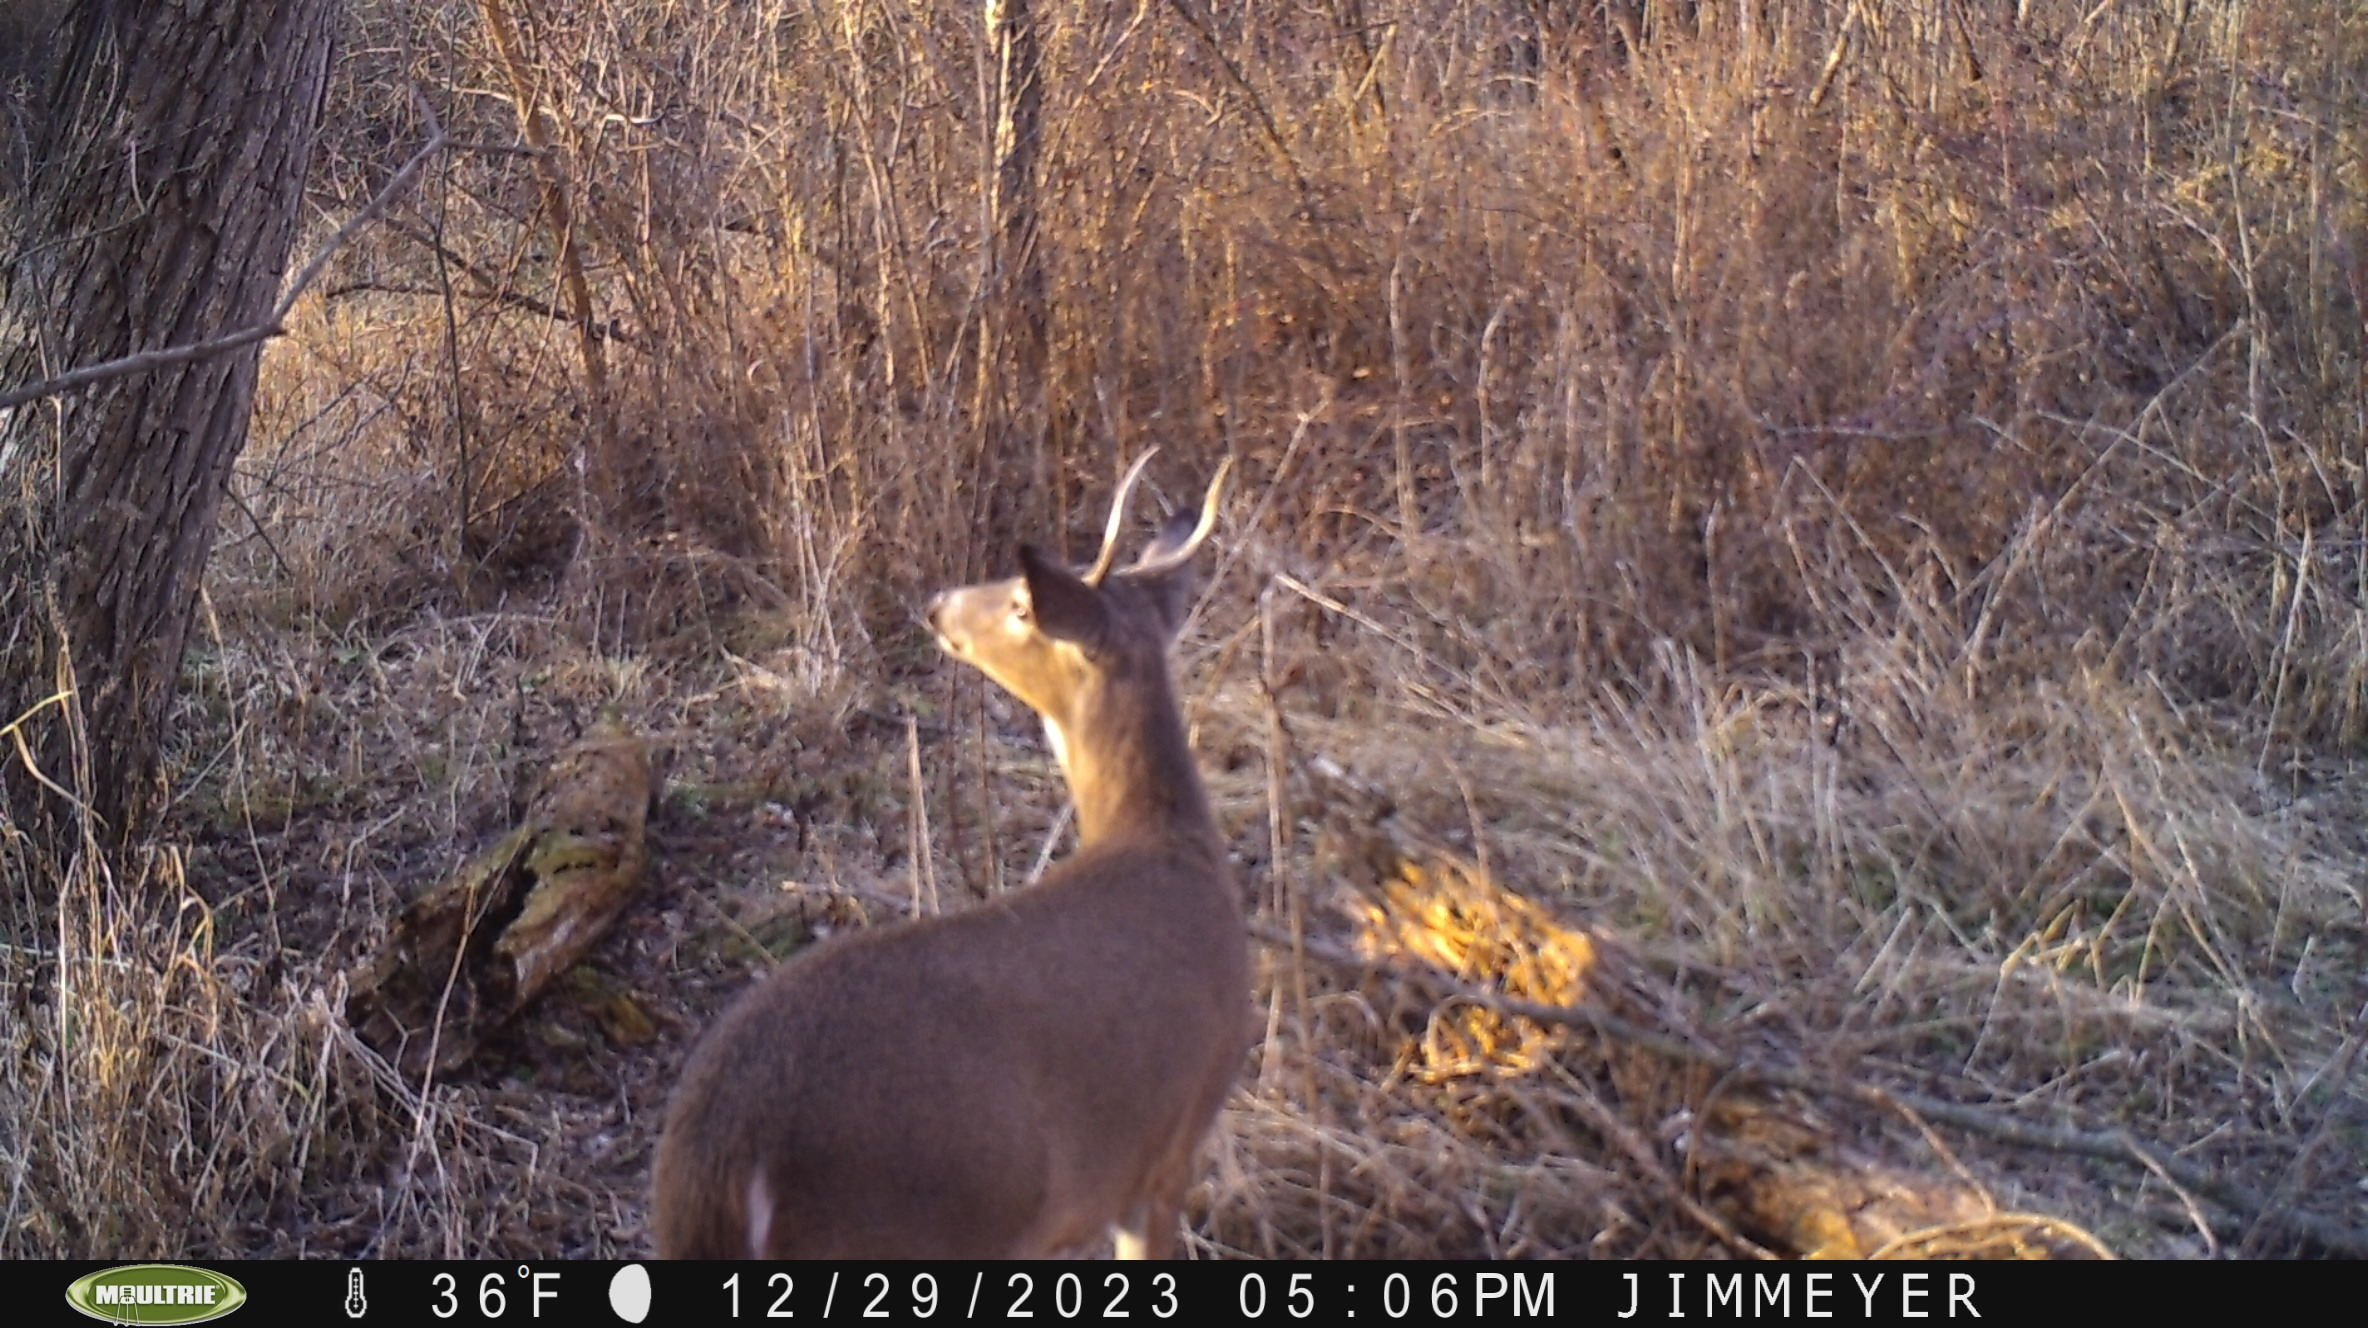DeerBuck: (650, 436, 1252, 1257)
DeerBuckHead: (921, 436, 1237, 662)
